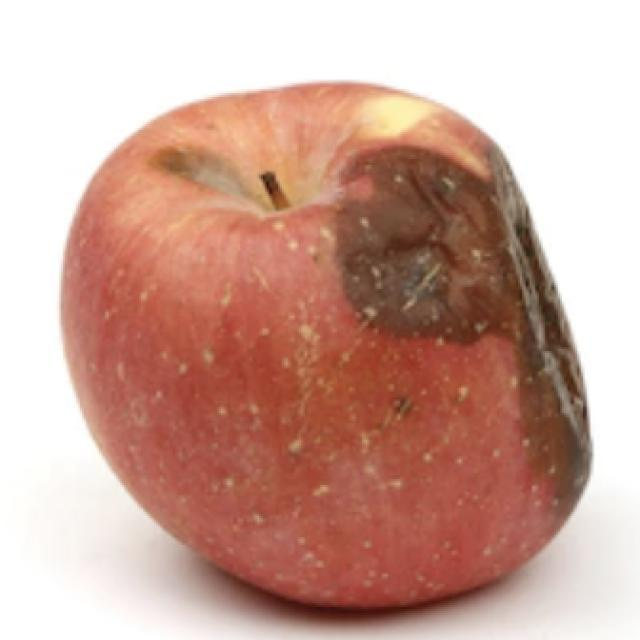Rotten: (59, 75, 592, 610)
